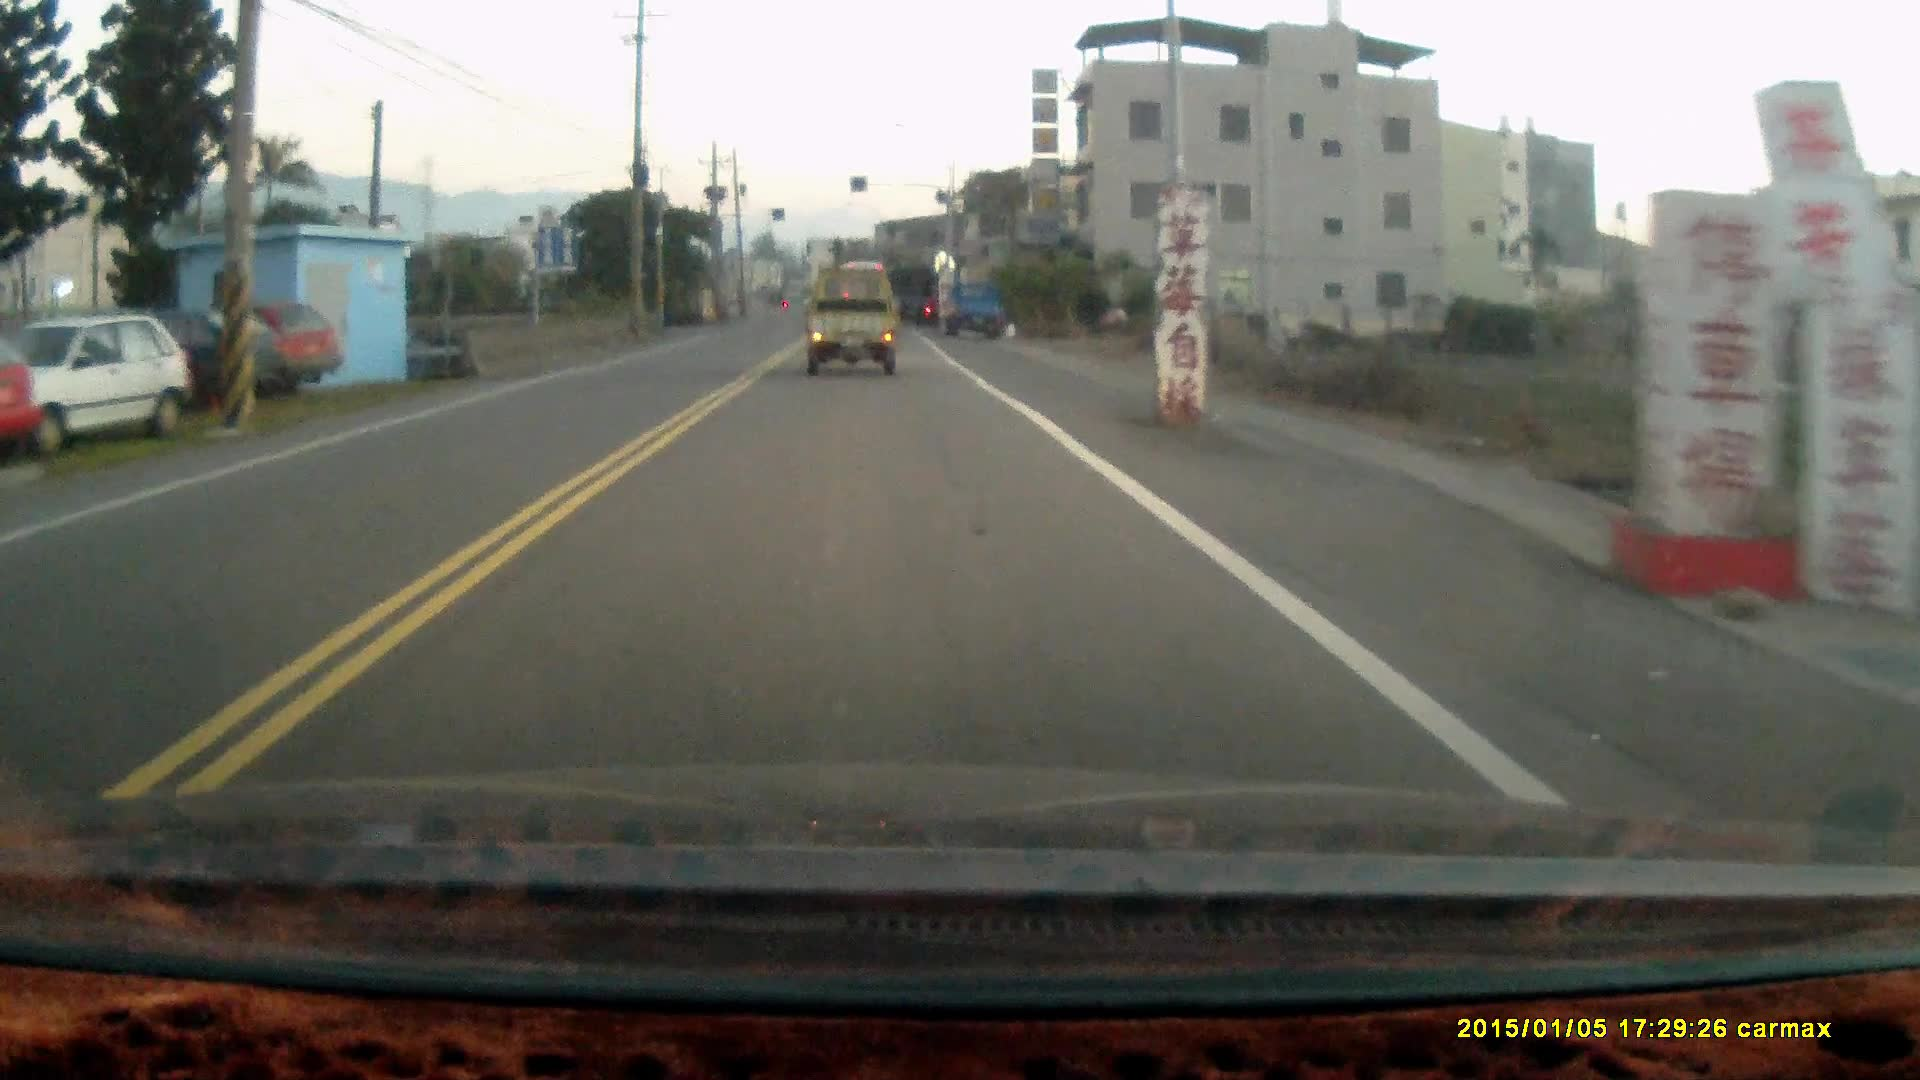vehicle: (1, 319, 200, 452), (138, 295, 349, 393), (808, 276, 902, 382), (1, 319, 40, 473), (940, 276, 1010, 338), (887, 265, 942, 327)
